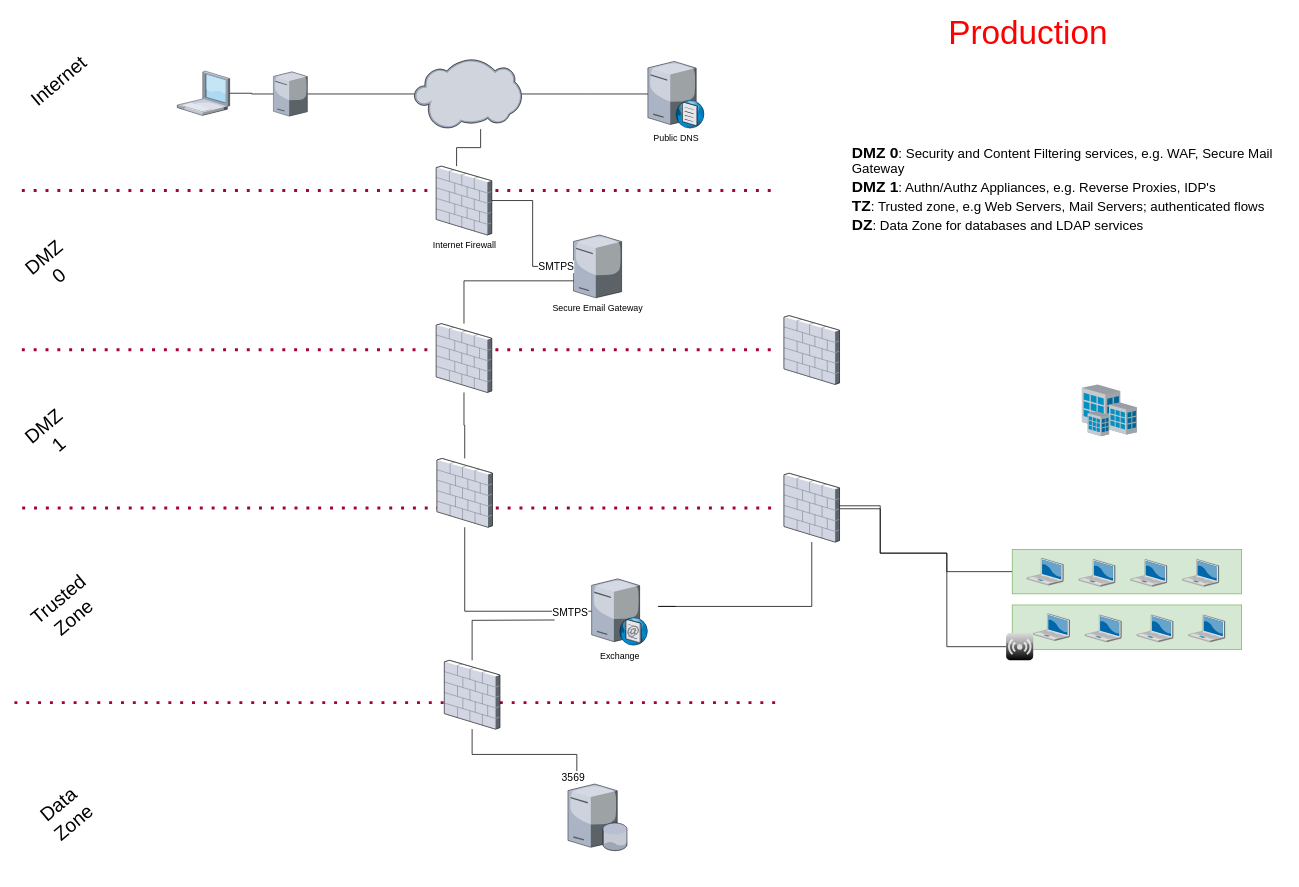
Image size: 1299x887. Some labels were removed from this diagram. Each missing label, with the centre of its shape:
"AD" belongs at (597,817).
"Office Network" belongs at (1109,410).
